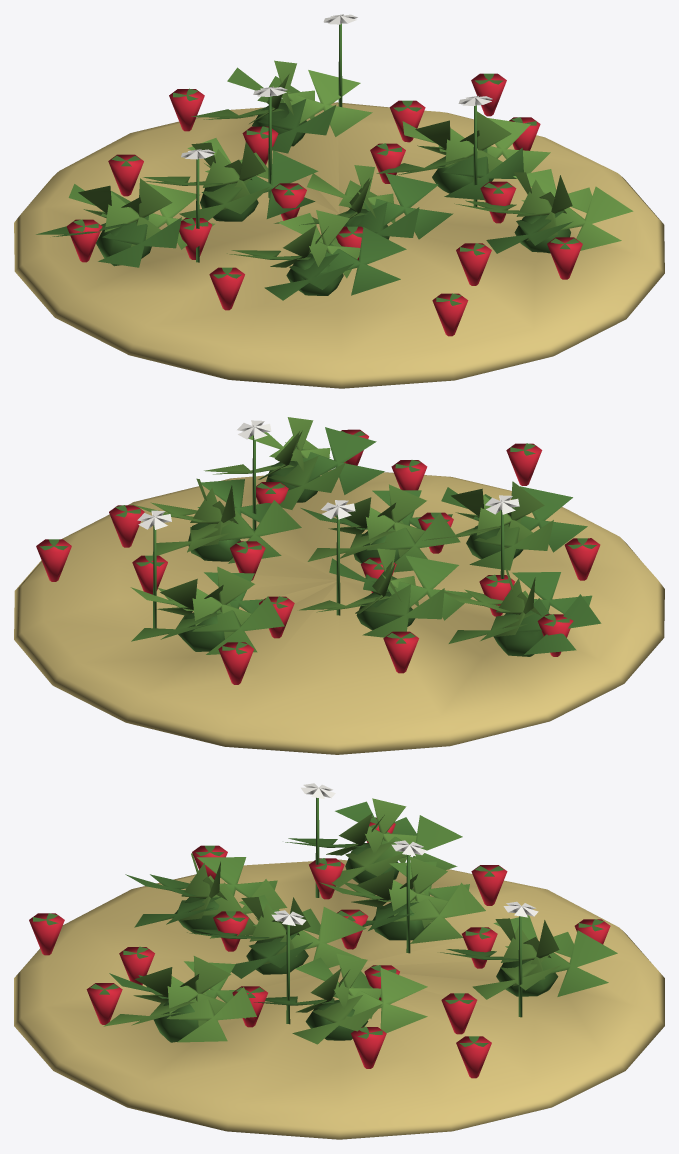
Rendered from strawberries.glb.
3 renders of one model, top to bottom at view 1: azimuth 30°, elevation 25°; view 2: azimuth 150°, elevation 25°; view 3: azimuth 270°, elevation 25°, orthographic.
Visible parts, largest first — view 1: strawberries, plants, crop; view 2: strawberries, plants, crop; view 3: strawberries, plants, crop.
Part boxes in pixels (x1,y1,x2,y2): strawberries: (14, 102, 664, 388); plants: (36, 60, 633, 300); crop: (66, 14, 582, 336); strawberries: (14, 470, 664, 754); plants: (130, 417, 601, 656); crop: (36, 420, 600, 684); strawberries: (14, 859, 664, 1139); plants: (103, 798, 617, 1044); crop: (29, 783, 610, 1078).
Bounding box in the file's own units: 0.88 × 0.21 × 0.88.
